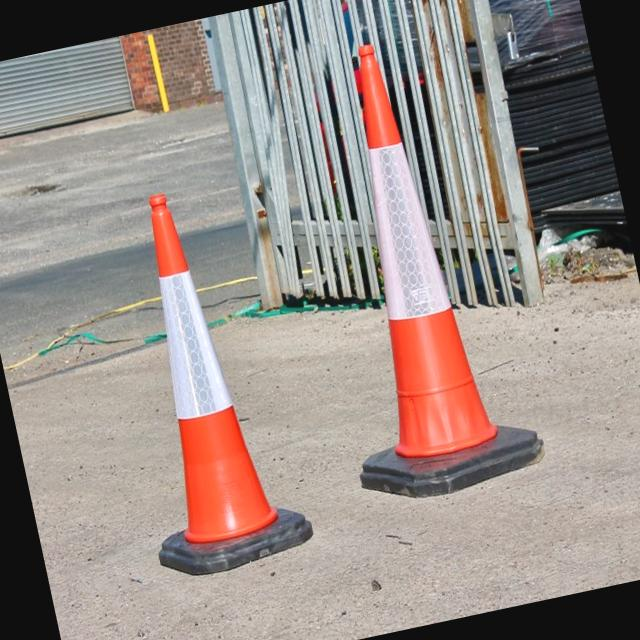cone: (271, 17, 567, 524), (88, 170, 330, 579)
